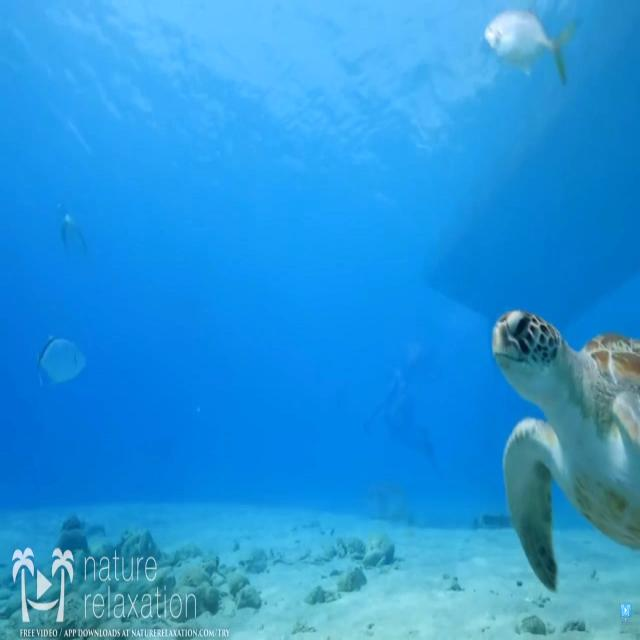Sea turtle: (486, 308, 640, 596)
